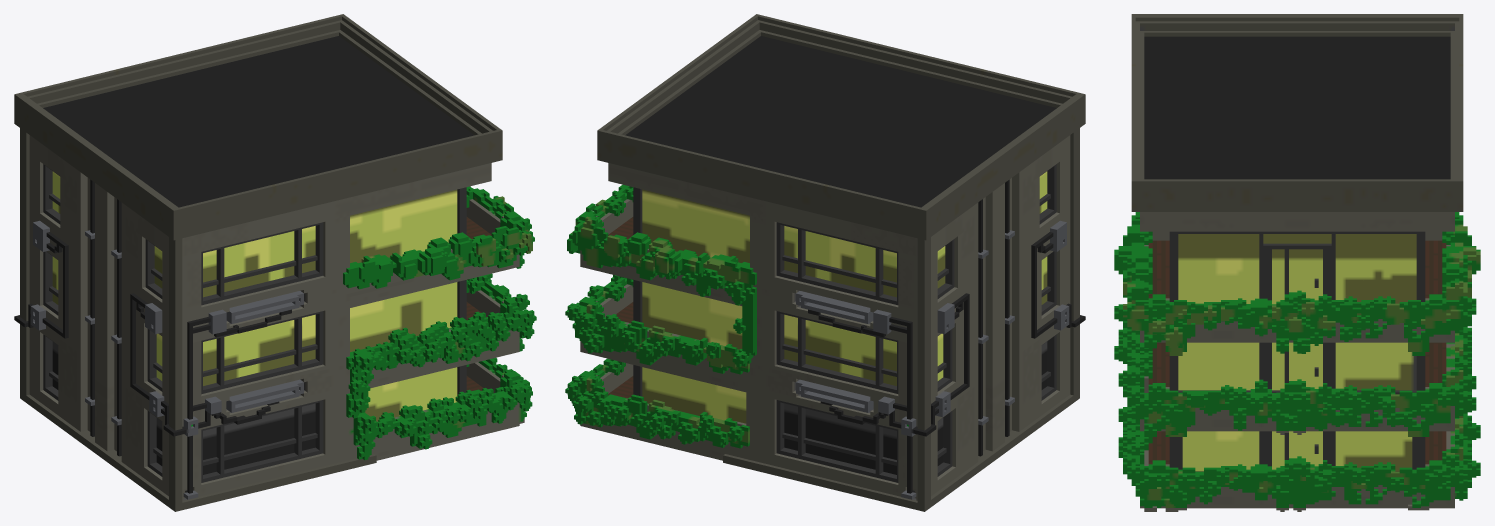
Rendered from residentialBuilding_05.fbx.
3 views of the same model, side by side, from view 1: azimuth 30°, elevation 25°; view 2: azimuth 150°, elevation 25°; view 3: azimuth 270°, elevation 25° (orthographic). The views are drawn at different scales.
Parts seen in each view (by area): view 1: building_5; view 2: building_5; view 3: building_5.
Part boxes in pixels (<box>): building_5: <box>14,14,536,511</box>; building_5: <box>565,14,1085,511</box>; building_5: <box>1114,14,1480,511</box>.
Size of the model in its own units: 106 by 82 by 86.
1 material, 1 textured.
